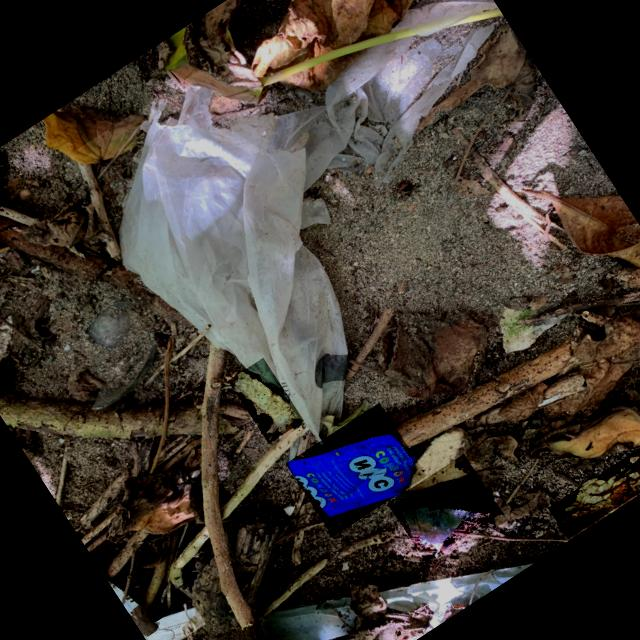Broken glass: (86, 301, 157, 410)
Other plastic: (289, 433, 416, 516), (390, 491, 501, 545), (109, 579, 158, 635), (145, 607, 195, 640)
Plastic film: (118, 0, 501, 452)
Styrofoam piece: (562, 466, 640, 538), (233, 371, 303, 434)
